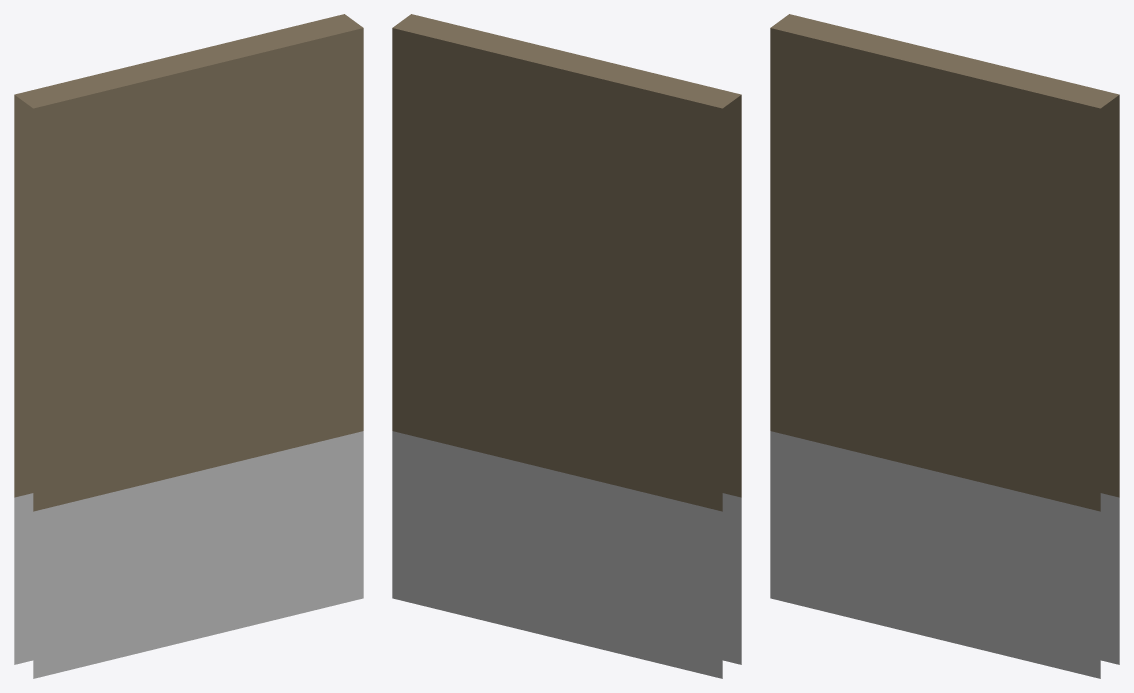
Rendered from SM_Wall_200.FBX.
3 renders of one model, left to right at view 1: azimuth 30°, elevation 25°; view 2: azimuth 150°, elevation 25°; view 3: azimuth 330°, elevation 25°, orthographic.
Visible parts, largest first — view 1: SM_Wall_200; view 2: SM_Wall_200; view 3: SM_Wall_200.
Part boxes in pixels (x1,y1,x2,y2): SM_Wall_200: [14, 14, 363, 678]; SM_Wall_200: [392, 14, 741, 678]; SM_Wall_200: [770, 14, 1119, 678].
Size of the model in its own units: 200 by 20 by 330.
